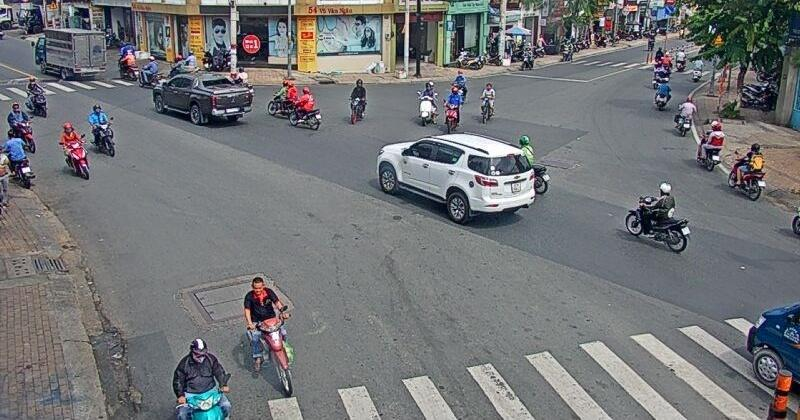xe hoi: (376, 133, 535, 222), (151, 73, 251, 124)
xe may: (243, 275, 293, 395), (624, 182, 690, 254), (727, 143, 765, 201), (57, 122, 89, 178), (7, 101, 36, 154), (87, 104, 116, 155), (288, 86, 321, 130), (696, 121, 723, 170), (416, 82, 438, 127), (674, 96, 697, 136), (26, 76, 47, 117), (441, 86, 460, 131), (349, 78, 366, 124), (478, 82, 495, 124)
